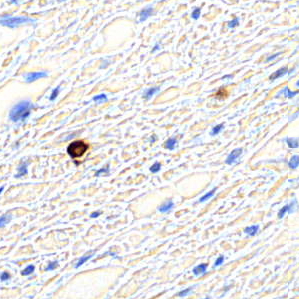Lymphocyte: (61, 138, 93, 159)
